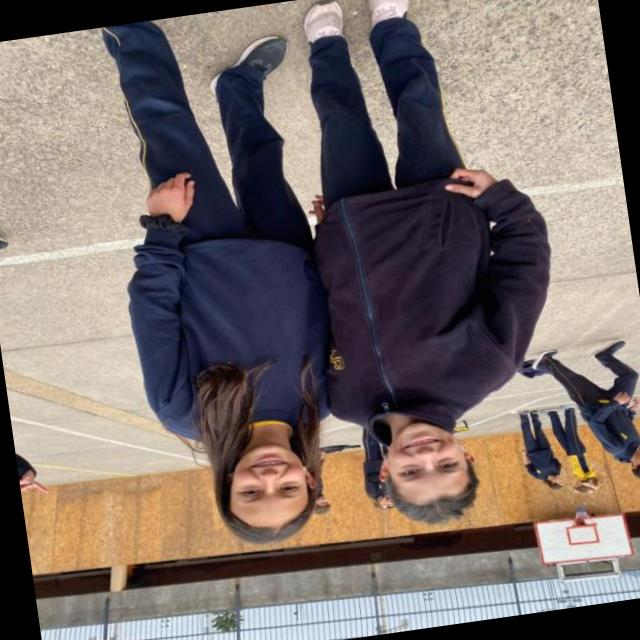person: (40, 2, 362, 581), (258, 0, 593, 541), (508, 323, 640, 498), (543, 398, 606, 500), (514, 410, 572, 500), (346, 424, 396, 514), (311, 492, 341, 522)
